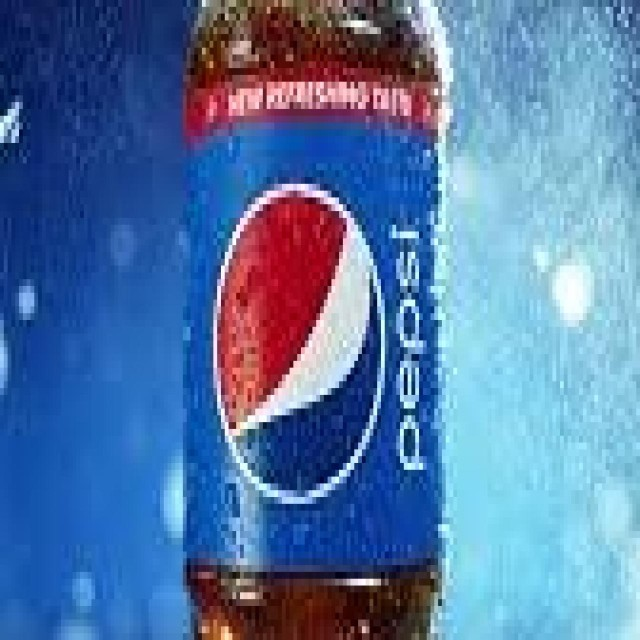pepsi: (209, 172, 389, 512)
